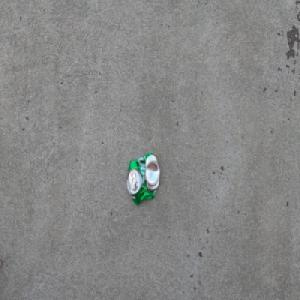SodaCan: (126, 152, 160, 206)
